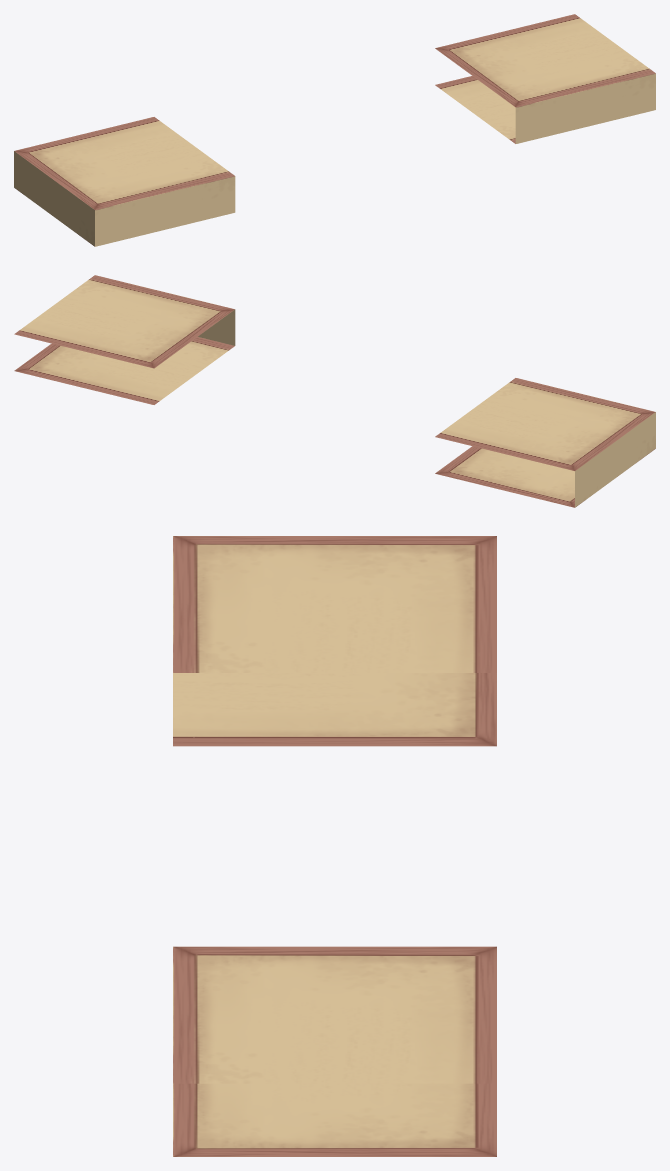
The model's file is Suelo_Tatami.fbx.
3 views of the same model, one above another, from view 1: azimuth 30°, elevation 25°; view 2: azimuth 150°, elevation 25°; view 3: azimuth 270°, elevation 25° (orthographic). The views are drawn at different scales.
Visible parts, largest first — view 1: Suelo_Esquina, Suelo_Base; view 2: Suelo_Base, Suelo_Esquina; view 3: Suelo_Base, Suelo_Esquina.
Boxes of the visible parts, bbox=[...] form: Suelo_Esquina: bbox=[14, 117, 235, 246]; Suelo_Base: bbox=[435, 14, 655, 143]; Suelo_Base: bbox=[14, 275, 235, 404]; Suelo_Esquina: bbox=[435, 378, 655, 507]; Suelo_Base: bbox=[173, 946, 496, 1156]; Suelo_Esquina: bbox=[173, 536, 496, 746].
Bounding box in the file's own units: 400 × 25 × 100.
1 material, 1 textured.
